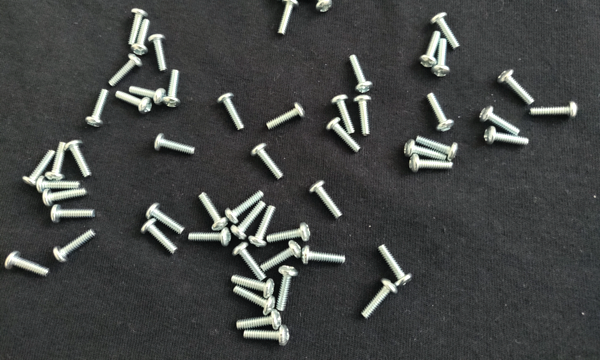shortscrew: (53, 228, 97, 264), (361, 278, 398, 320), (378, 244, 413, 287), (498, 68, 536, 105), (309, 180, 344, 220), (140, 219, 178, 255), (232, 241, 267, 280), (233, 285, 275, 317), (250, 143, 285, 181), (226, 190, 265, 224), (231, 201, 265, 240), (198, 192, 229, 233), (261, 241, 302, 272), (479, 106, 521, 136), (4, 251, 50, 278), (431, 11, 462, 51), (327, 117, 361, 153), (146, 203, 185, 234), (23, 150, 54, 189), (249, 206, 276, 248), (64, 140, 93, 179), (266, 102, 306, 130), (417, 135, 459, 161), (109, 54, 142, 87), (218, 92, 245, 132), (428, 93, 454, 133), (231, 275, 274, 299), (267, 222, 311, 245), (277, 266, 299, 312), (244, 326, 290, 347), (530, 101, 579, 120), (154, 134, 196, 156), (237, 310, 281, 331), (484, 127, 530, 147), (350, 54, 373, 94), (331, 95, 354, 135), (405, 140, 447, 161), (50, 205, 96, 224), (114, 91, 152, 114), (188, 227, 231, 247), (86, 89, 108, 128), (302, 246, 347, 265), (419, 30, 441, 68), (409, 154, 453, 173), (46, 142, 68, 180), (36, 176, 82, 194), (276, 0, 298, 37), (43, 188, 87, 206), (148, 33, 167, 72), (128, 8, 148, 45), (354, 95, 372, 136), (129, 87, 167, 106), (131, 19, 150, 57), (432, 38, 450, 78), (163, 70, 181, 109), (309, 0, 334, 12), (276, 0, 314, 2)
